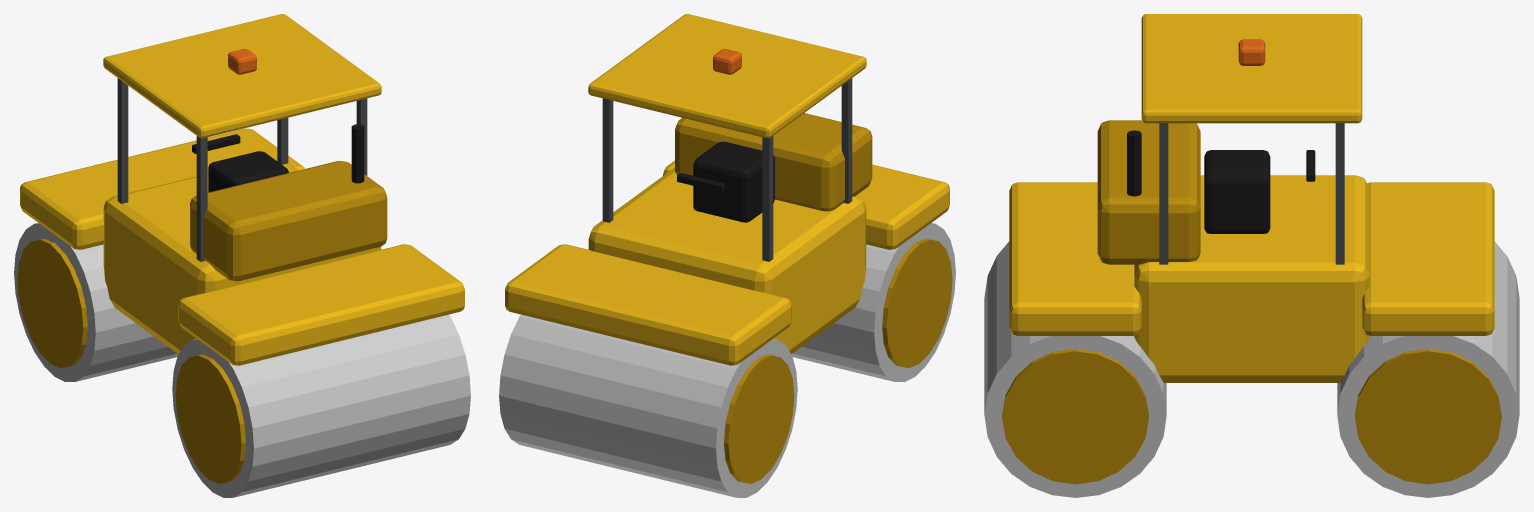
Rendered from silindir.glb.
3 renders of one model, left to right at view 1: azimuth 30°, elevation 25°; view 2: azimuth 150°, elevation 25°; view 3: azimuth 270°, elevation 25°, orthographic. The views are drawn at different scales.
Visible parts, largest first — view 1: Direk; view 2: Direk; view 3: Direk.
Part boxes in pixels (bbox=[...]): Direk: bbox=[14, 14, 470, 497]; Direk: bbox=[499, 14, 955, 497]; Direk: bbox=[984, 14, 1519, 497].
Bounding box in the file's own units: 0.5632 × 0.8159 × 1.
